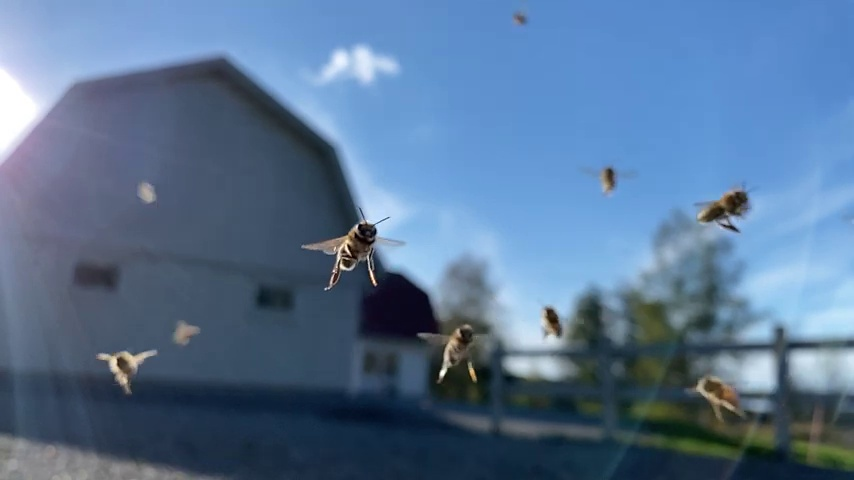insect: (297, 207, 404, 291), (416, 325, 485, 388), (692, 179, 755, 232), (92, 346, 155, 397), (687, 377, 754, 419), (576, 165, 639, 198), (537, 305, 572, 337)
